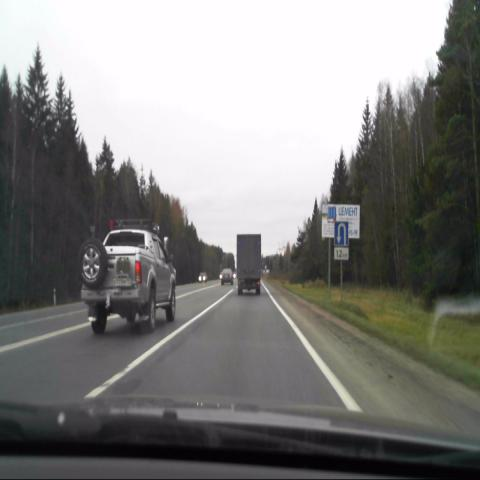6_3_1: (334, 221, 348, 246)
